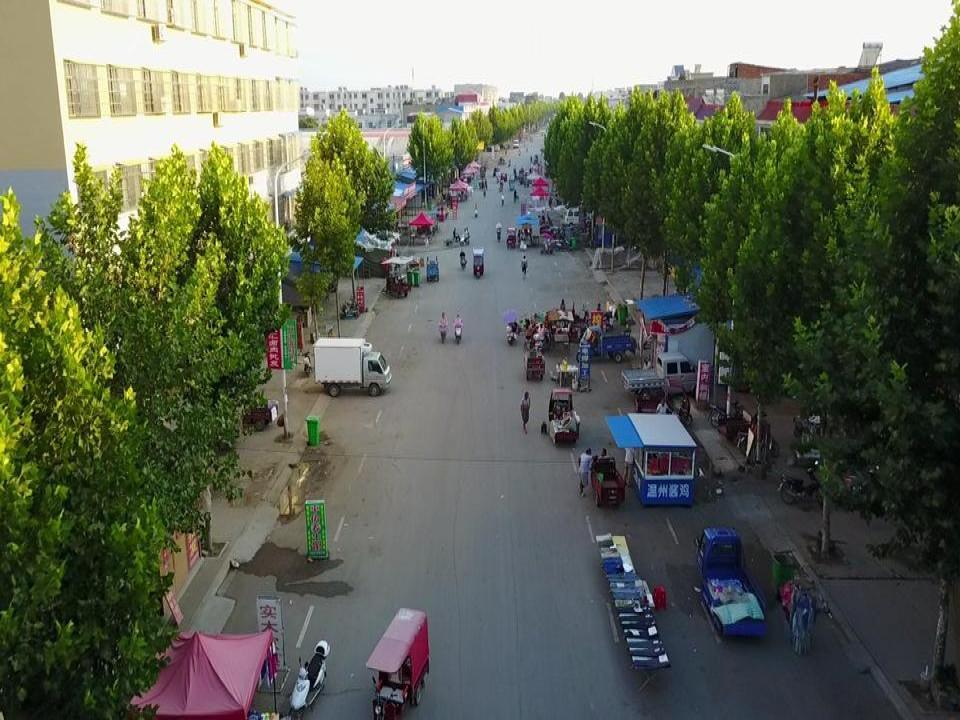car: (563, 204, 600, 223)
truck: (696, 527, 768, 640), (313, 336, 392, 397), (622, 352, 699, 400), (578, 325, 634, 359)
